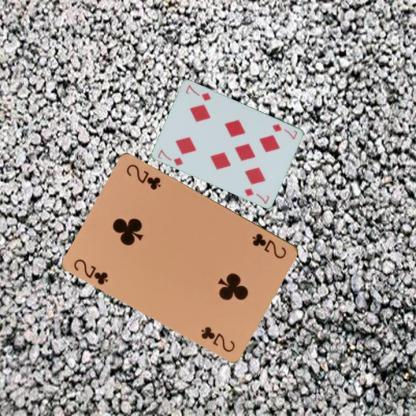2c: (71, 256, 110, 286), (250, 230, 288, 260)
7d: (155, 147, 185, 167), (270, 121, 299, 141)
